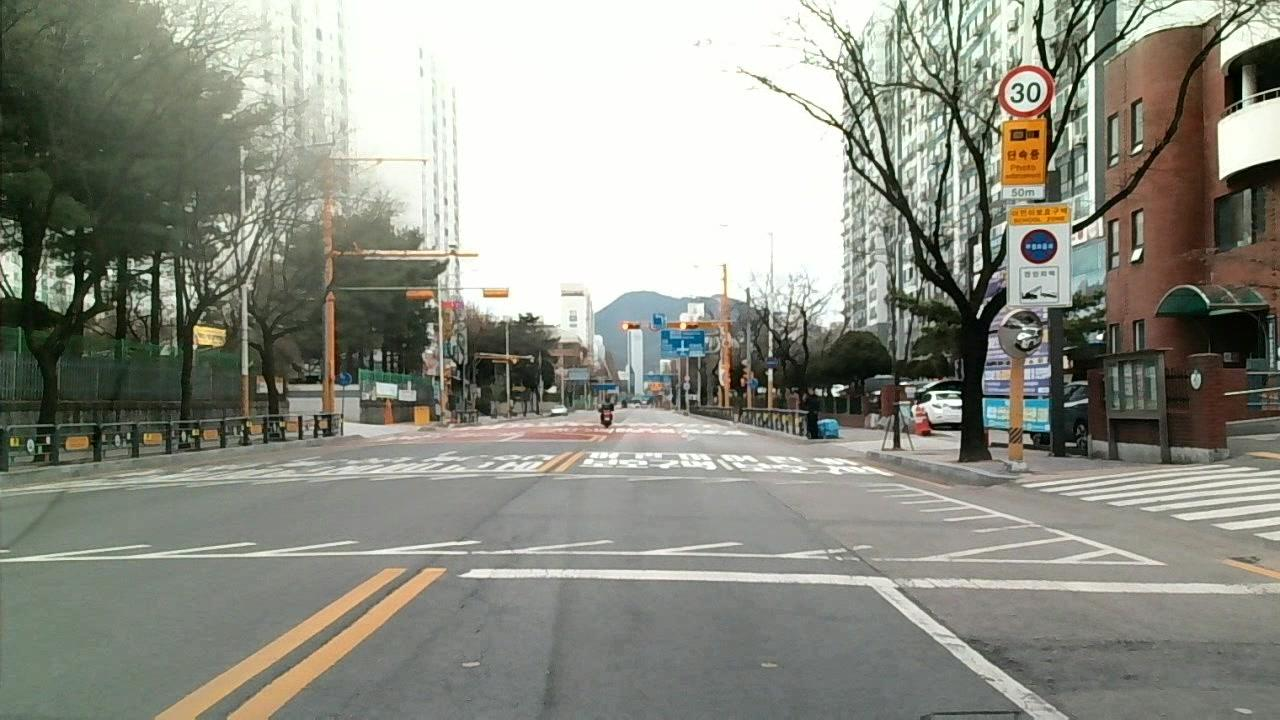banner: (977, 395, 1050, 440), (980, 328, 1051, 363), (974, 364, 1054, 395)
erosion: (979, 626, 1280, 696)
trash: (817, 415, 841, 440)
vcrack: (213, 574, 417, 720), (845, 548, 970, 641)
